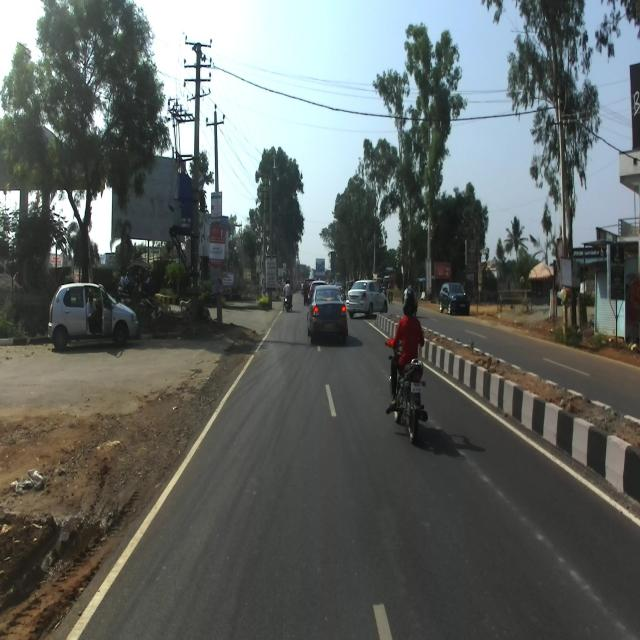car: (48, 282, 138, 351), (304, 281, 348, 343), (346, 280, 387, 318)
motorcycle: (384, 339, 428, 444)
